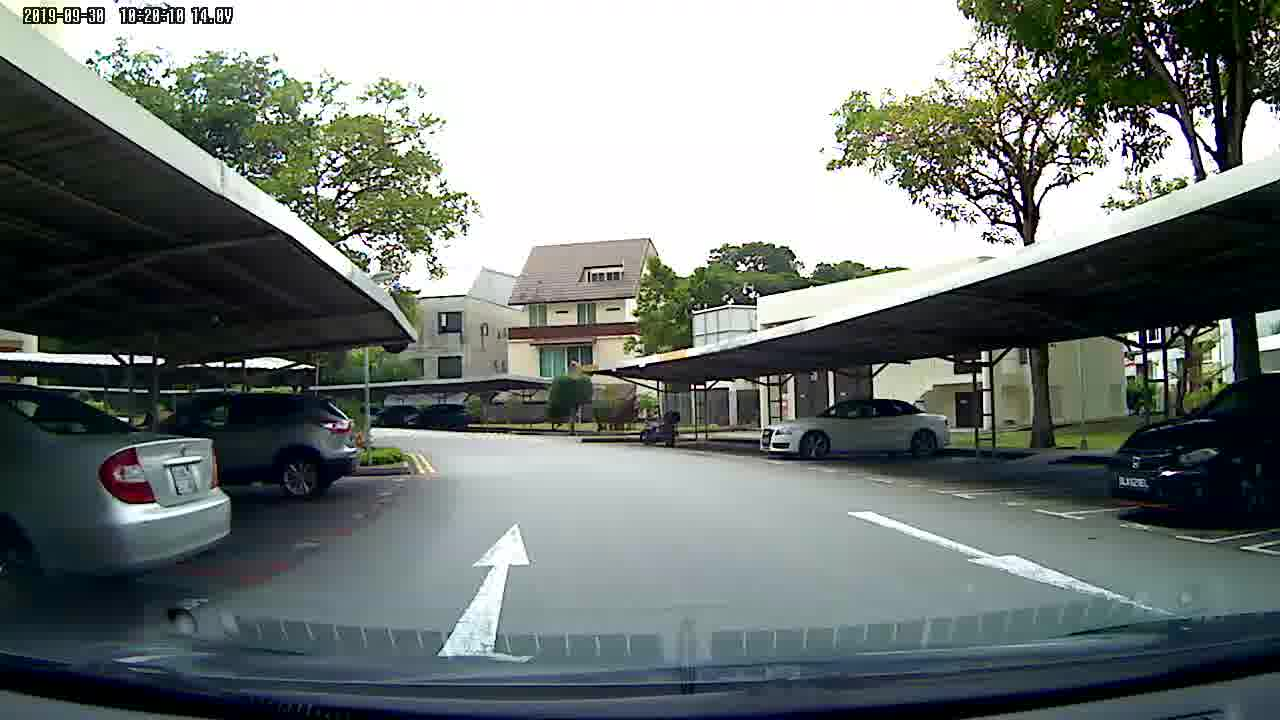car: (1, 376, 239, 592), (134, 381, 369, 505), (1100, 370, 1280, 519), (747, 391, 959, 473)
